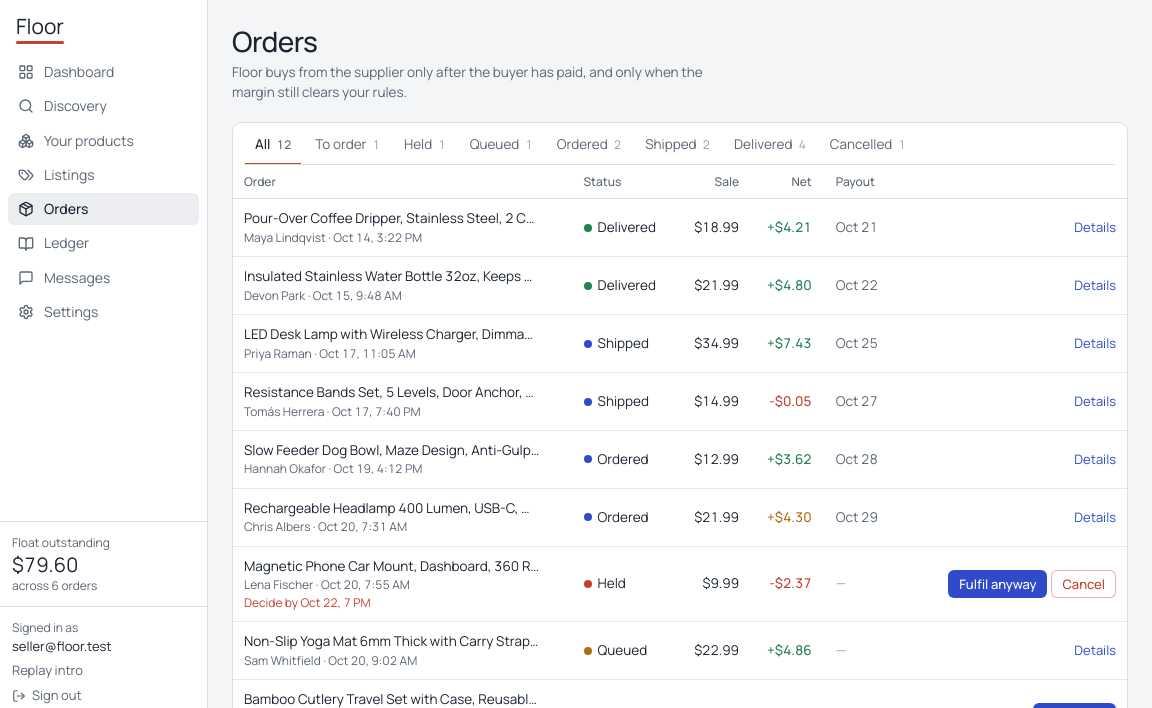
To order tab and dashboard hint › lists the order waiting for the seller under To order
This screenshot has width=1152, height=708.
Click the tab "To order1": (348, 146) [305, 127, 390, 165]
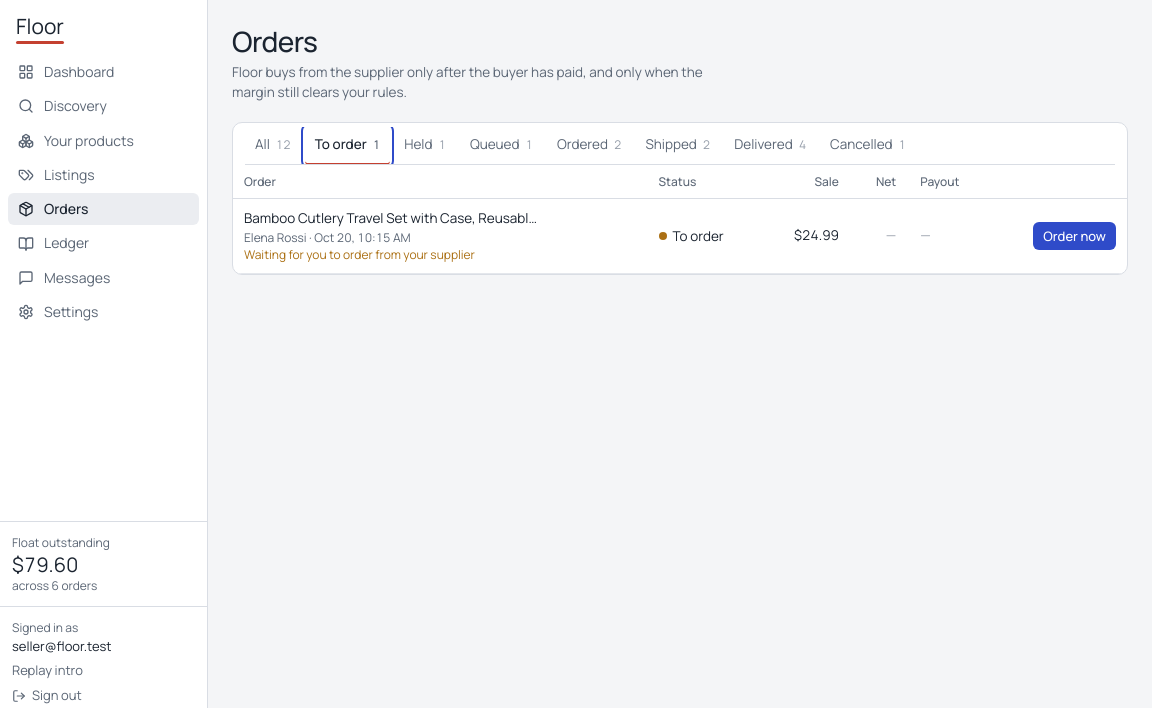
Check: the text "Elena Rossi" is shown, box [244, 229, 307, 246]
Check: the text "Waiting for you to order from your supplier" is shown, box [244, 246, 475, 263]
# Other tabs do not show it.
Click the tab "Held1": (425, 146) [394, 127, 456, 165]
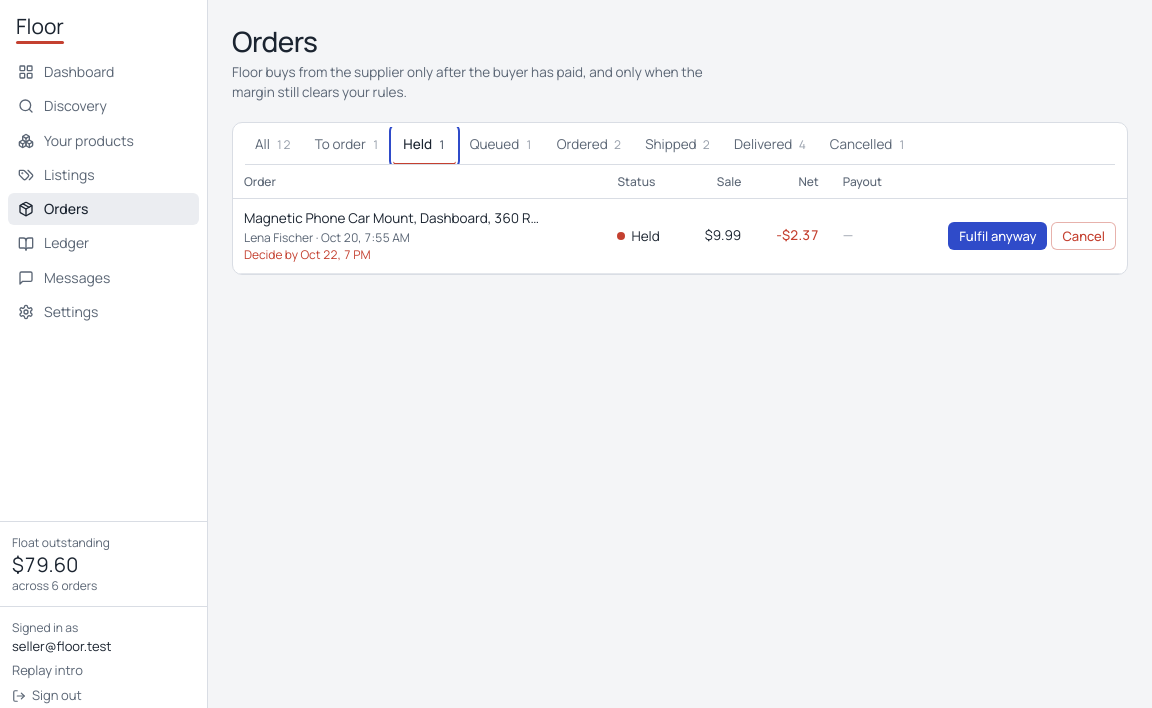
Check: the text "Elena Rossi" is gone
